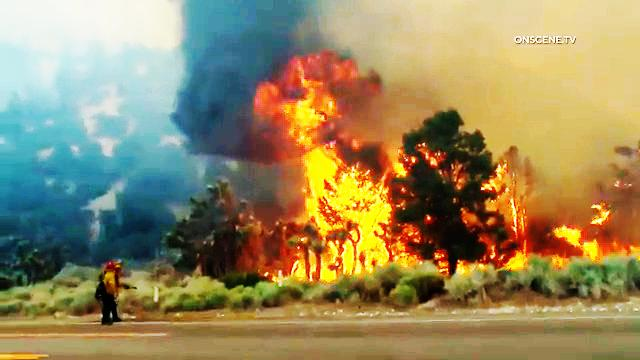fire: (279, 103, 397, 283), (556, 224, 608, 263)
smoke: (164, 0, 341, 90)
